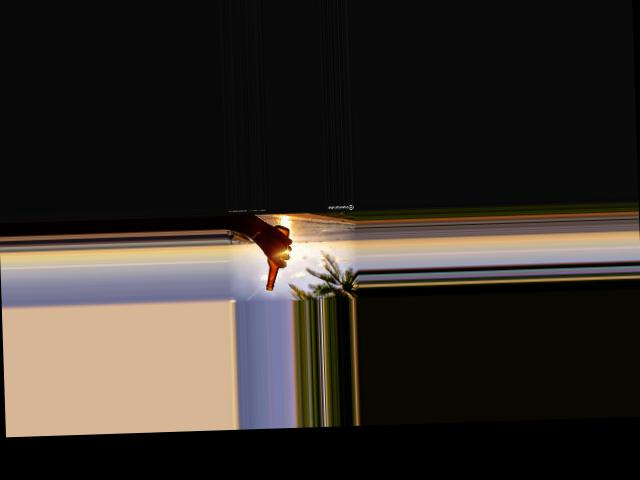beer: (262, 224, 290, 290)
